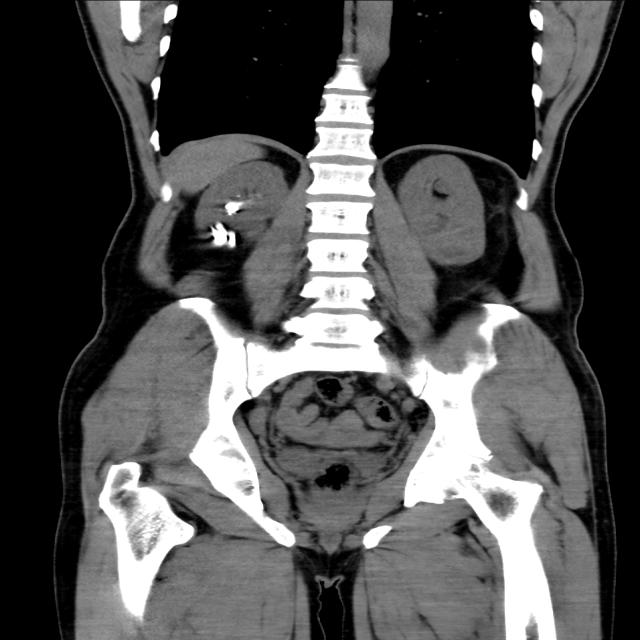kidneystone: (211, 222, 236, 247), (224, 201, 242, 213)
